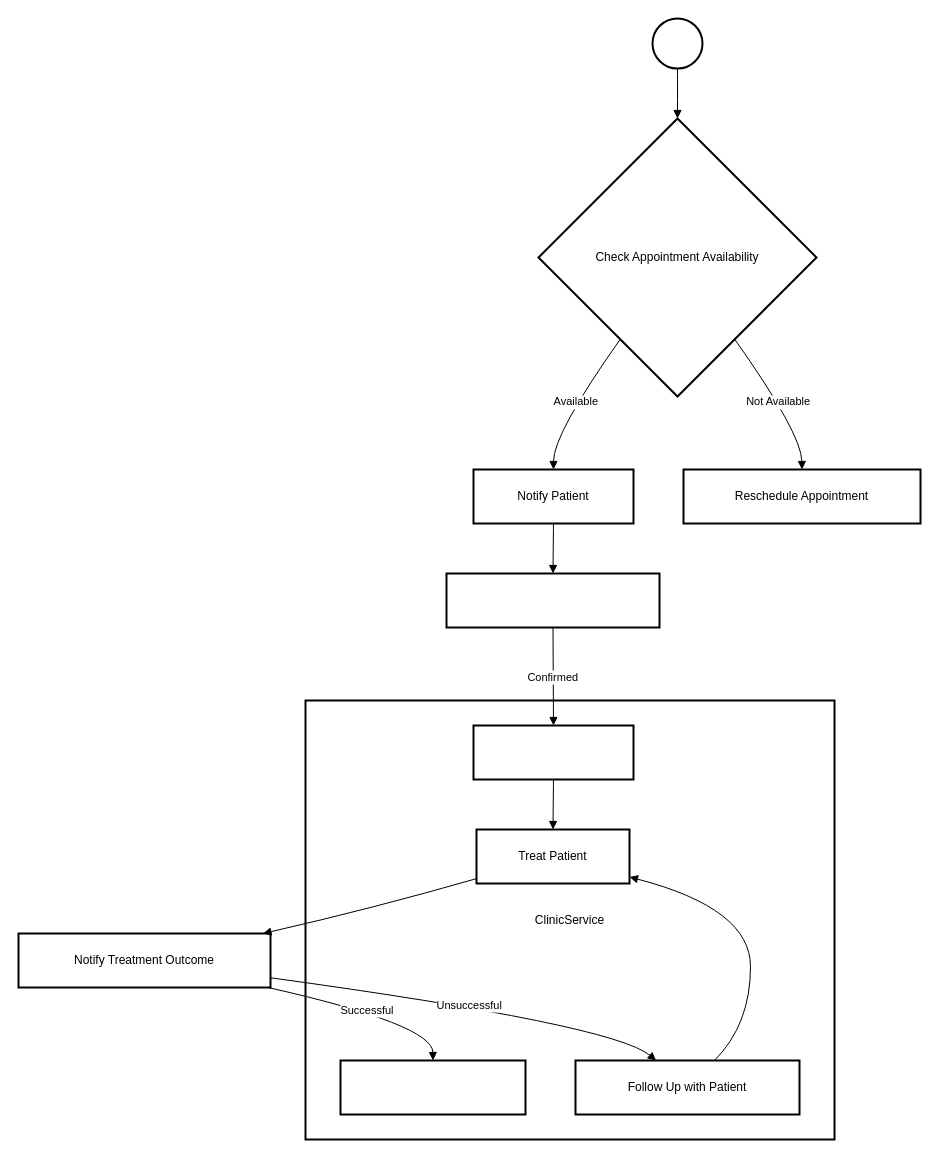
This 938x1157 diagram has some shape labels left out. Each missing label, with the box of its shape:
Confirm Appointment: (445, 572, 660, 628)
Discharge Patient: (339, 1059, 526, 1115)
Prepare Clinic: (472, 724, 634, 780)
Start: (651, 17, 703, 69)
